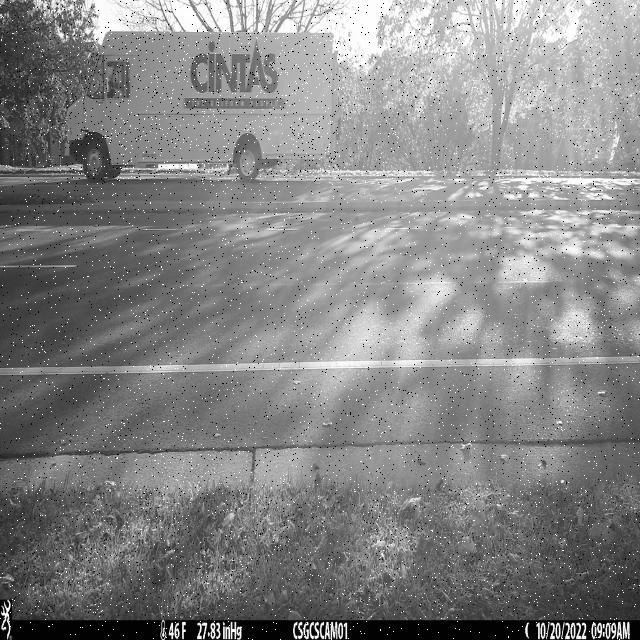Box Truck: (66, 31, 341, 182)
